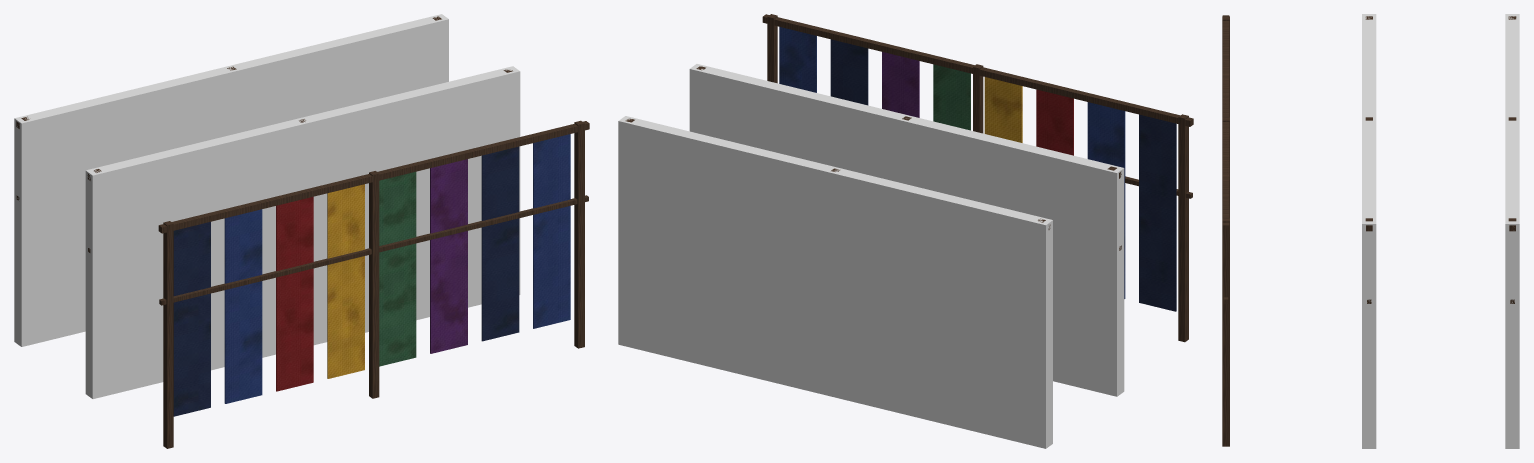
File: dye_racks.glb
3 renders of one model, left to right at view 1: azimuth 30°, elevation 25°; view 2: azimuth 150°, elevation 25°; view 3: azimuth 270°, elevation 25°, orthographic.
Visible parts, largest first — view 1: Frame-convcolonly.001, Frame-convcolonly.002, DyeFrames, DyedCloth0, DyedCloth5, DyedCloth3, DyedCloth1, DyedCloth2, DyedCloth4; view 2: Frame-convcolonly.002, Frame-convcolonly.001, DyedCloth5, DyeFrames, DyedCloth0, DyedCloth2, DyedCloth1, DyedCloth3, DyedCloth4; view 3: Frame-convcolonly.002, Frame-convcolonly.001, DyeFrames.
Boxes of the visible parts, bbox=[...] form: Frame-convcolonly.001: bbox=[85, 66, 520, 398]; Frame-convcolonly.002: bbox=[14, 14, 448, 346]; DyeFrames: bbox=[16, 16, 589, 448]; DyedCloth0: bbox=[224, 134, 570, 403]; DyedCloth5: bbox=[173, 146, 519, 416]; DyedCloth3: bbox=[379, 171, 416, 366]; DyedCloth1: bbox=[276, 196, 313, 391]; DyedCloth2: bbox=[327, 184, 364, 378]; DyedCloth4: bbox=[430, 159, 467, 353]; Frame-convcolonly.002: bbox=[618, 116, 1052, 448]; Frame-convcolonly.001: bbox=[689, 64, 1124, 396]; DyedCloth5: bbox=[830, 39, 1176, 311]; DyeFrames: bbox=[625, 14, 1193, 342]; DyedCloth0: bbox=[779, 27, 1125, 298]; DyedCloth2: bbox=[984, 77, 1022, 142]; DyedCloth1: bbox=[1036, 89, 1073, 155]; DyedCloth3: bbox=[933, 64, 970, 130]; DyedCloth4: bbox=[882, 52, 919, 117]; Frame-convcolonly.002: bbox=[1505, 14, 1519, 448]; Frame-convcolonly.001: bbox=[1362, 14, 1376, 448]; DyeFrames: bbox=[1222, 15, 1516, 446].
Size of what is drawn, in the model's own units: 10.4 by 5.2 by 6.23.
Materials: 7 (7 with a texture image).
